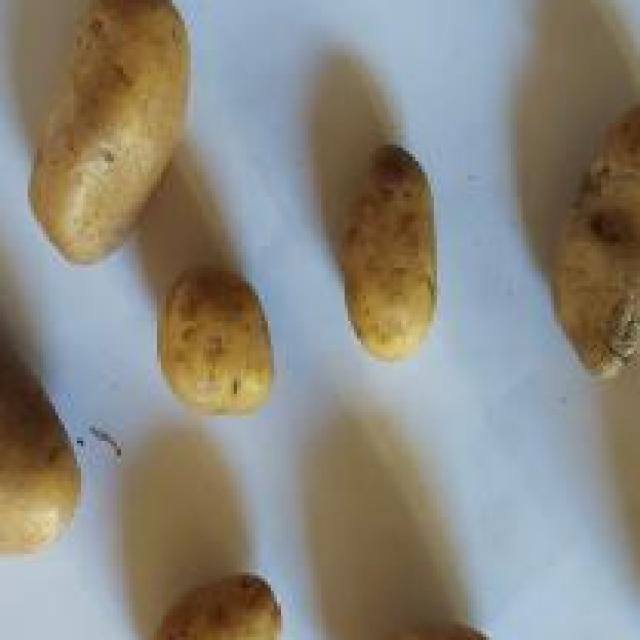potato: (28, 0, 190, 262), (554, 98, 640, 382), (337, 147, 441, 369), (0, 258, 74, 560), (142, 569, 280, 640)
